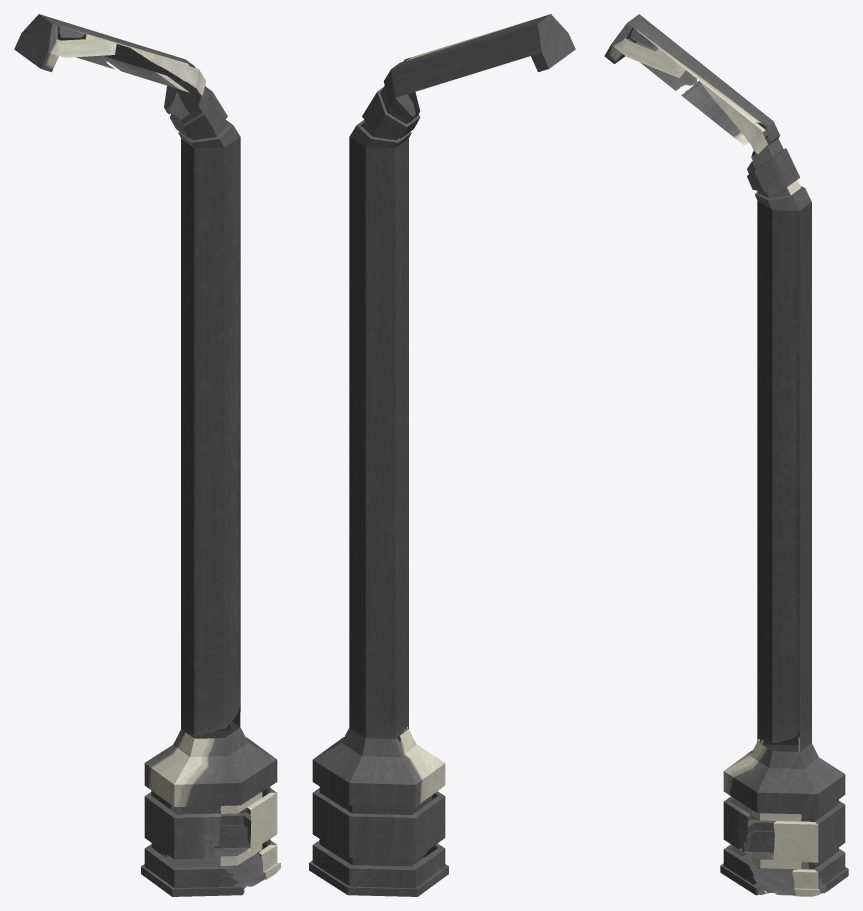
The model's file is LampPost.obj.
The picture shows the model from 3 angles, left to right: view 1: azimuth 30°, elevation 25°; view 2: azimuth 150°, elevation 25°; view 3: azimuth 330°, elevation 25°; orthographic projection. The views are drawn at different scales.
Parts seen in each view (by area): view 1: Cylinder; view 2: Cylinder; view 3: Cylinder.
Part boxes in pixels (x1,y1,x2,y2): Cylinder: (14, 14, 280, 896); Cylinder: (309, 14, 575, 896); Cylinder: (604, 14, 848, 896).
Size of the model in its own units: 3.46 by 12.43 by 1.58.
Materials: 1 (1 with a texture image).
